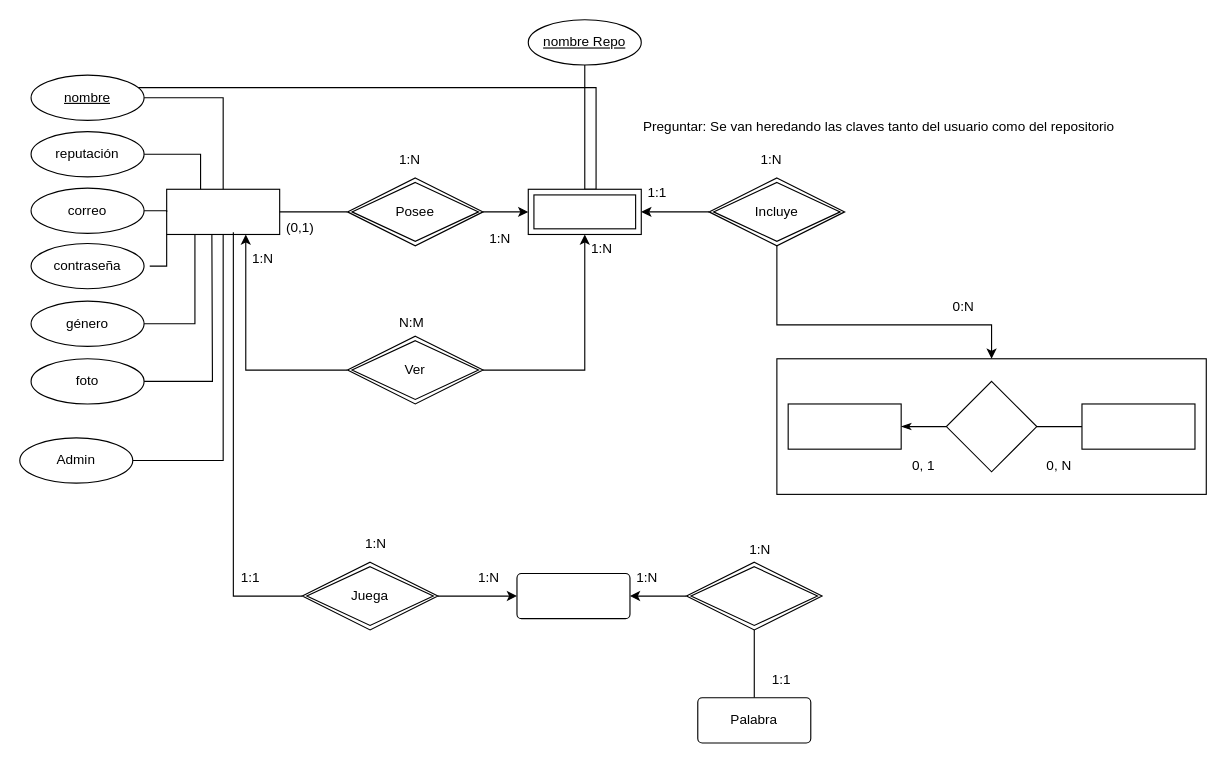
This 1226x763 diagram has some shape labels left out. Each missing label, with the box of its shape:
Carpeta: (1081, 403, 1195, 449)
Contiene: (685, 561, 822, 630)
Fichero: (787, 403, 901, 449)
Partida: (516, 572, 630, 619)
Repositorio: (527, 188, 641, 234)
Usuario: (166, 188, 280, 234)
